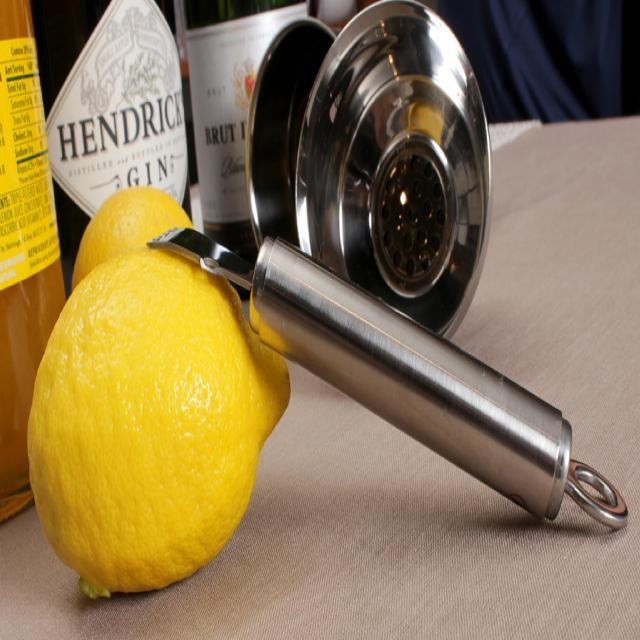Lemon: (28, 247, 288, 597), (74, 182, 185, 274)
